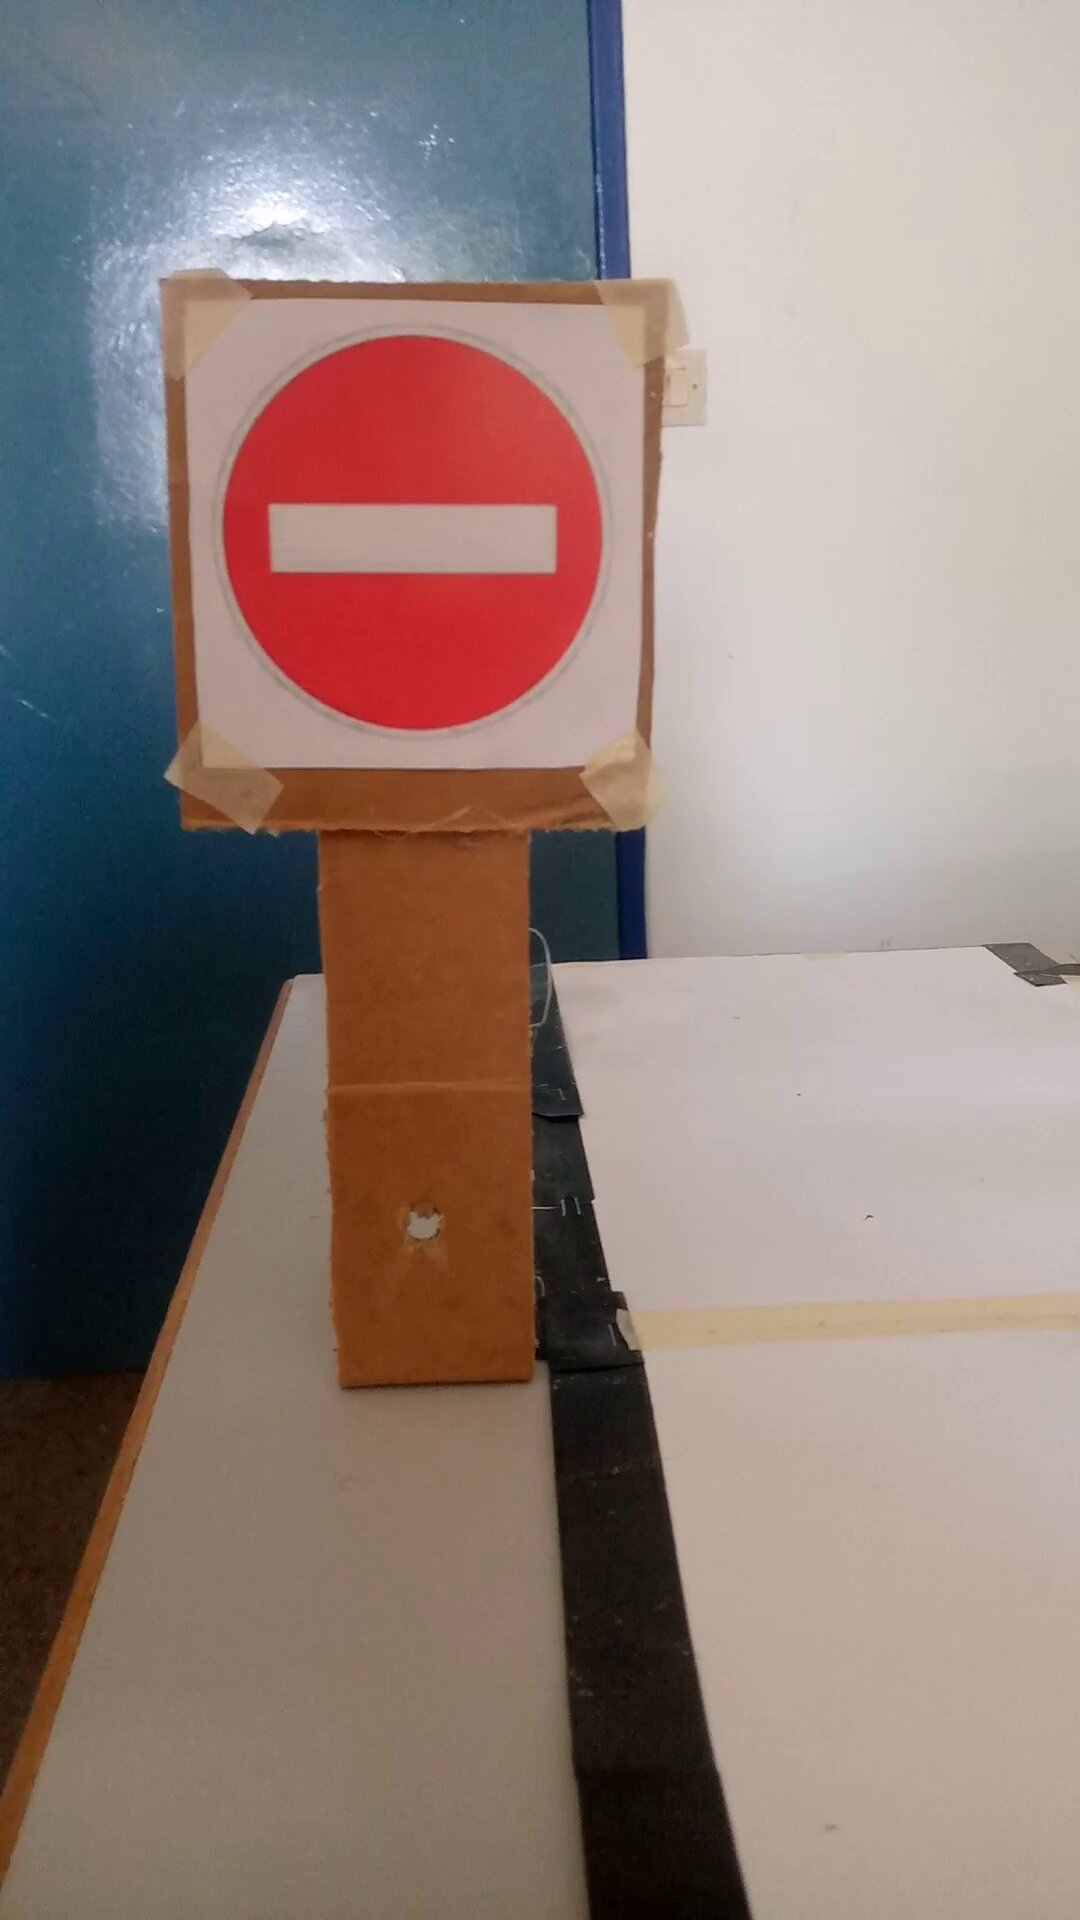panel010: (175, 301, 647, 766)
